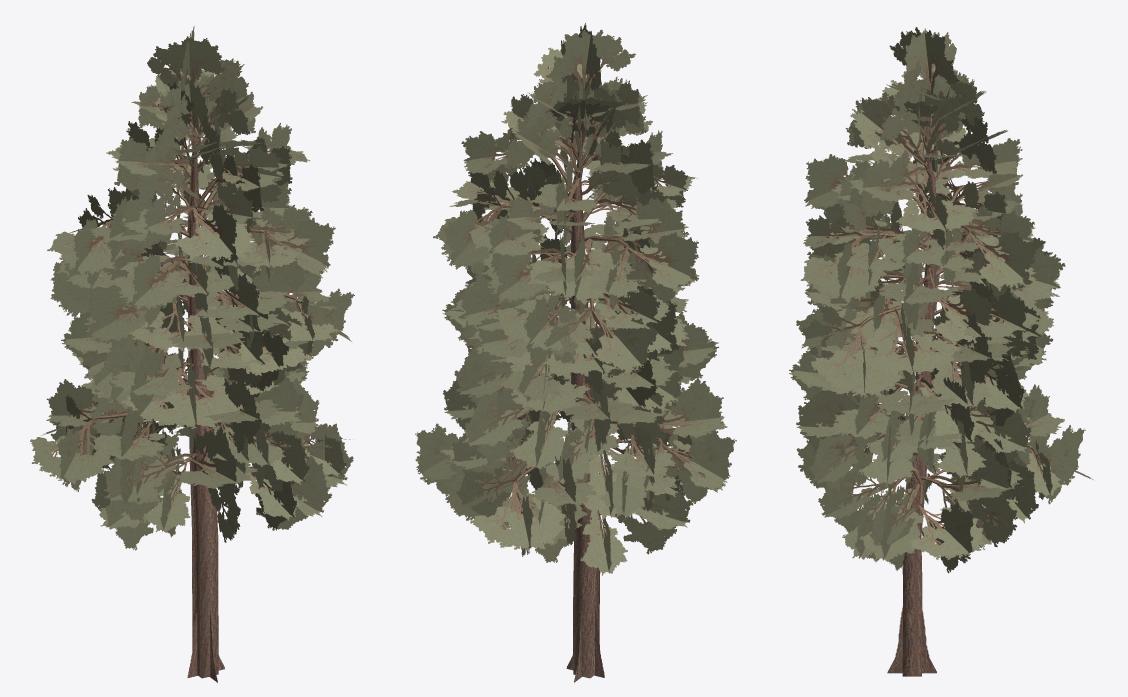
Rendered from SequoiadendronGiganteum.glb.
3 views of the same model, side by side, from view 1: azimuth 30°, elevation 25°; view 2: azimuth 150°, elevation 25°; view 3: azimuth 270°, elevation 25° (orthographic). The views are drawn at different scales.
Visible parts, largest first — view 1: Giant_Sequoia__Realistic_LOD3; view 2: Giant_Sequoia__Realistic_LOD3; view 3: Giant_Sequoia__Realistic_LOD3.
Boxes of the visible parts, box(x1,y1,x2,y2) form: Giant_Sequoia__Realistic_LOD3: box(30, 26, 354, 682); Giant_Sequoia__Realistic_LOD3: box(415, 23, 736, 682); Giant_Sequoia__Realistic_LOD3: box(789, 27, 1093, 676).
Bounding box in the file's own units: 34.22 × 62.71 × 29.27.
1 material, 1 textured.
